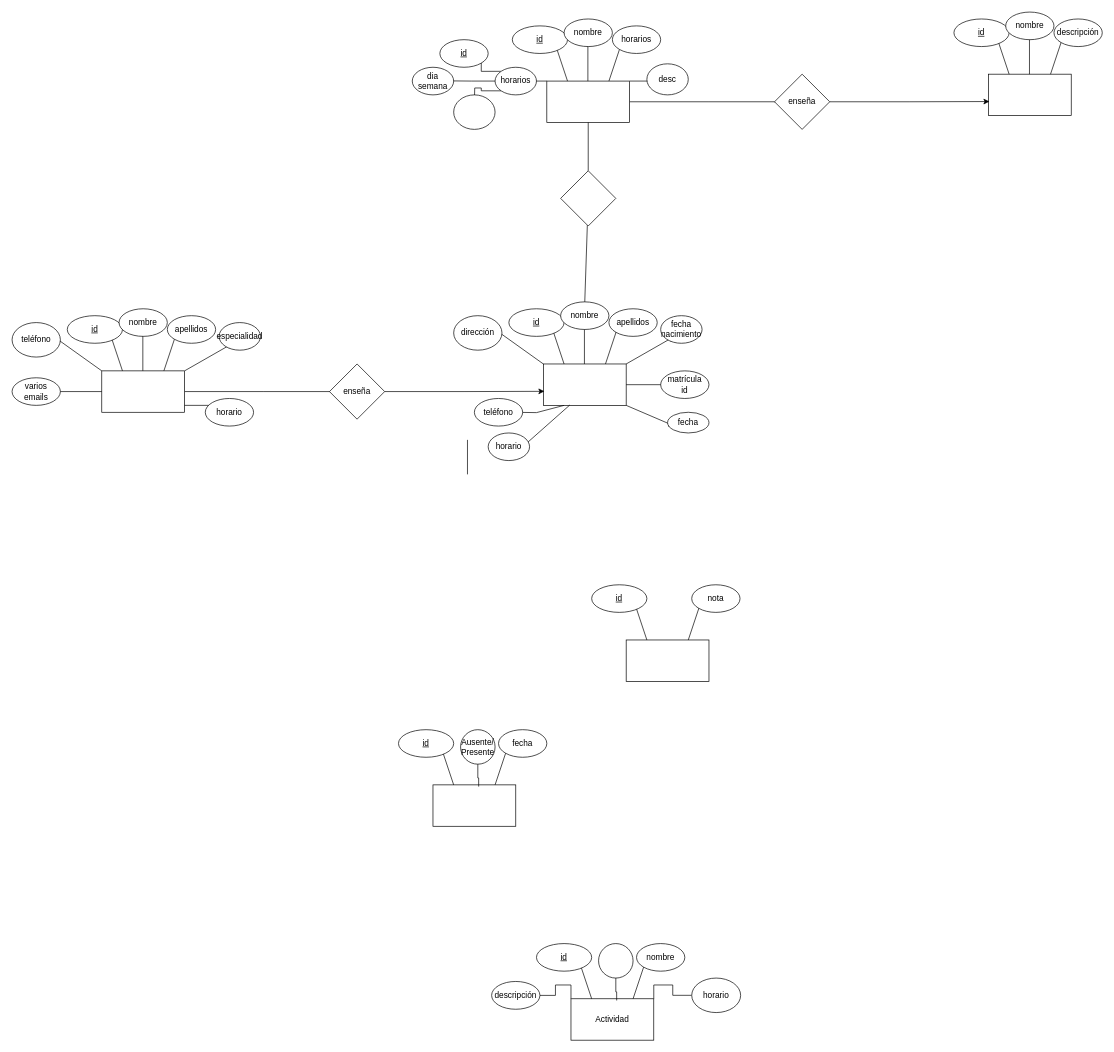
The diagram is 1114 pixels wide and 1052 high, and some of its shapes have lost their labels. The centre of each missing label's shape, as x and y in pixels:
Asistencia: pixel 474 805
Atributos: pixel 615 960
Clasificaciones: pixel 667 660
Curso: pixel 588 101
Estudiante: pixel 584 384
horario inicio/fin: pixel 474 111
Materias: pixel 1029 94
matricula: pixel 588 198
Profesor: pixel 143 391
